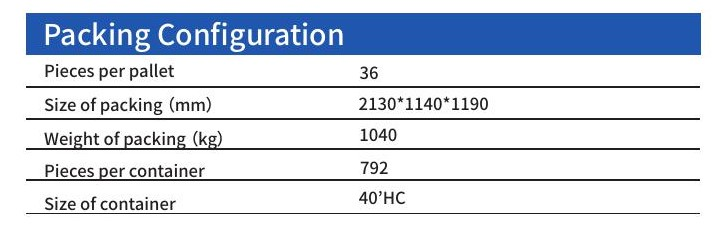table: (11, 46, 716, 223)
table column: (337, 52, 695, 218), (34, 54, 329, 216)
table row: (27, 183, 702, 210), (27, 153, 701, 178), (28, 91, 701, 116), (28, 58, 698, 83), (27, 123, 700, 146)
